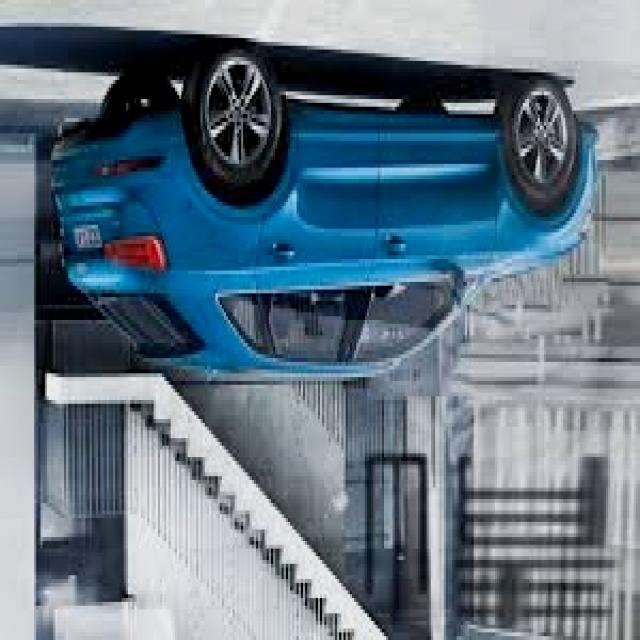blue: (53, 38, 597, 374)
